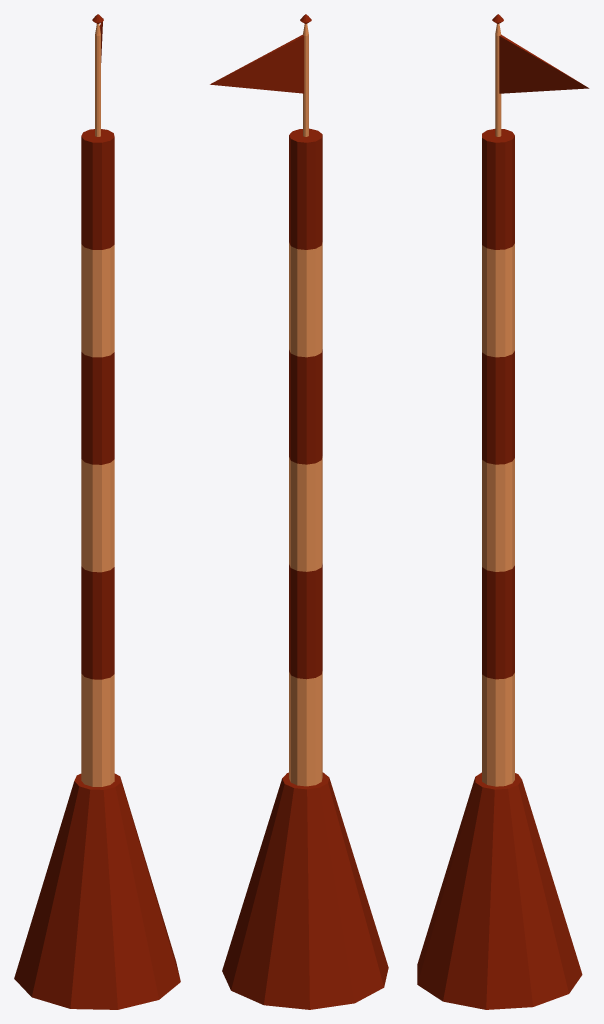
File: Flagpole.fbx
3 views of the same model, side by side, from view 1: azimuth 30°, elevation 25°; view 2: azimuth 150°, elevation 25°; view 3: azimuth 270°, elevation 25° (orthographic).
Parts seen in each view (by area): view 1: Circle; view 2: Circle; view 3: Circle.
Boxes of the visible parts, box(x1,y1,x2,y2) form: Circle: box(14, 14, 180, 1009); Circle: box(210, 14, 388, 1009); Circle: box(417, 14, 589, 1009).
Size of the model in its own units: 293 by 1860 by 303.
